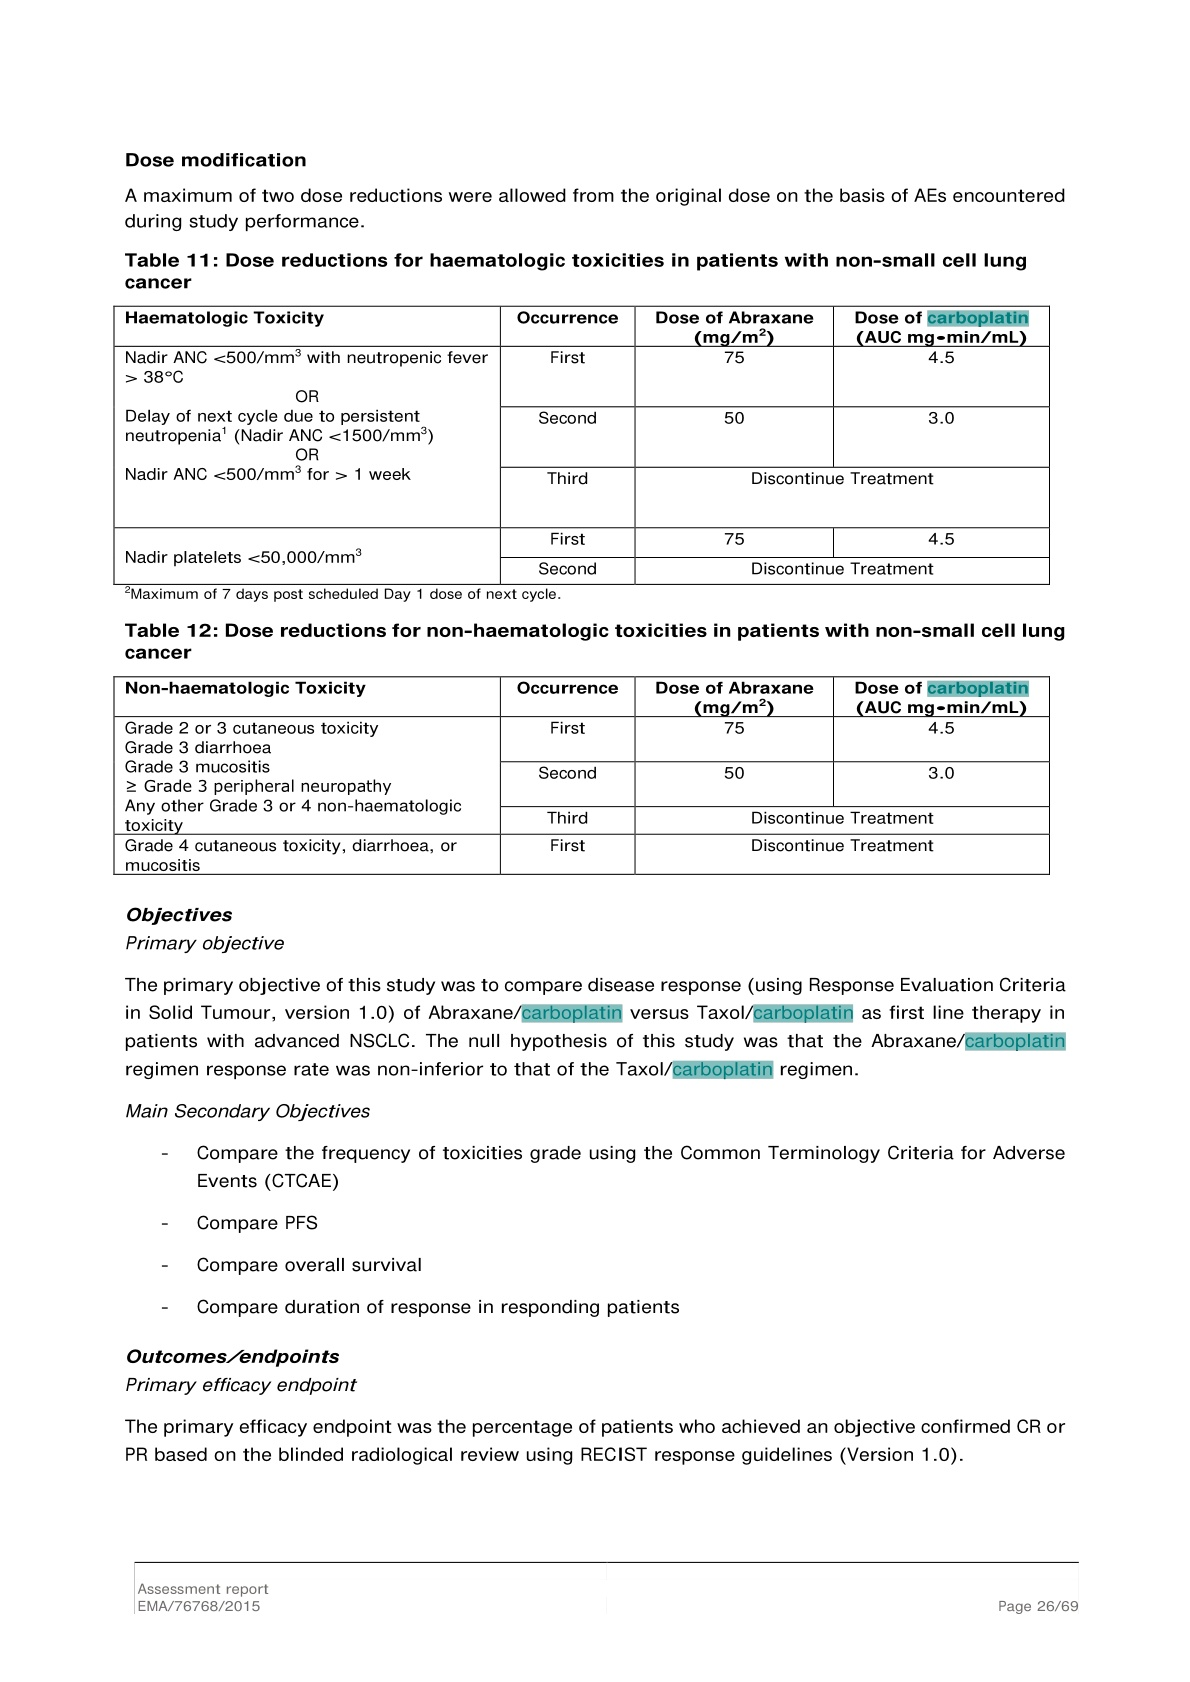merged_cells: (113, 305, 1051, 585), (112, 674, 1051, 874)
